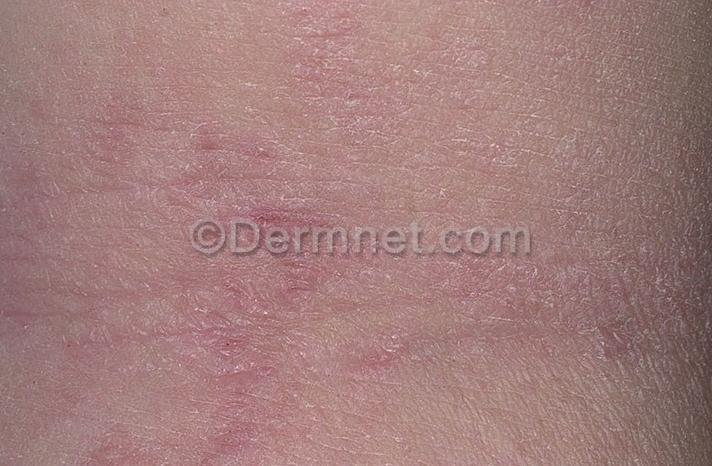eritema 1: (77, 107, 554, 466)
xerosis 1: (4, 0, 712, 454)
